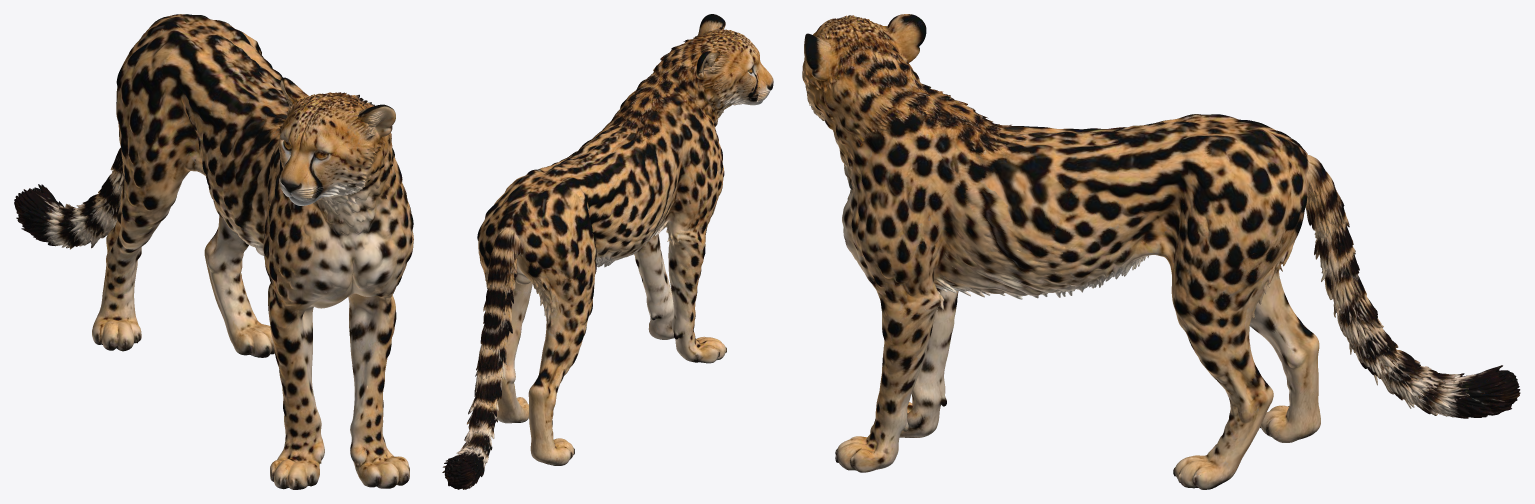
The model's file is wild-cheetah.glb.
3 views of the same model, side by side, from view 1: azimuth 30°, elevation 25°; view 2: azimuth 150°, elevation 25°; view 3: azimuth 270°, elevation 25° (orthographic). The views are drawn at different scales.
Parts seen in each view (by area): view 1: cheetah; view 2: cheetah; view 3: cheetah.
Boxes of the visible parts, x1=… form: cheetah: x1=14, y1=14, x2=413, y2=489; cheetah: x1=442, y1=14, x2=773, y2=489; cheetah: x1=802, y1=14, x2=1520, y2=489.
Size of the model in its own units: 0.4255 by 0.9285 by 1.47.
1 material, 1 textured.
